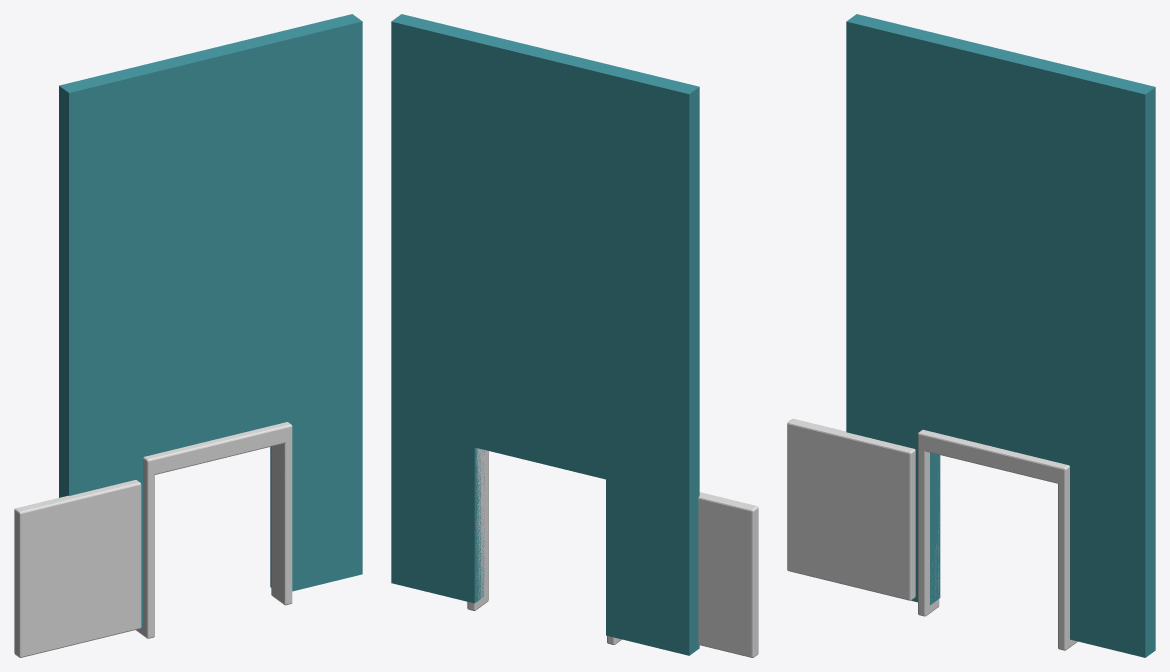
The model's file is env_tower_wall_door_5m_top3d_v002.glb.
The picture shows the model from 3 angles, left to right: view 1: azimuth 30°, elevation 25°; view 2: azimuth 150°, elevation 25°; view 3: azimuth 330°, elevation 25°; orthographic projection.
Parts seen in each view (by area): view 1: MOD_WALL_DOOR_5M_U01_Lintel, MOD_WALL_DOOR_5M_U01_Pier_R, MOD_WALL_DOOR_5M_U01_Pier_L, MOD_WALL_DOOR_5M_U01_DoorLeaf_OPEN, MOD_WALL_DOOR_5M_U01_Frame_R, MOD_WALL_DOOR_5M_U01_Frame_Top, MOD_WALL_DOOR_5M_U01_Frame_L; view 2: MOD_WALL_DOOR_5M_U01_Lintel, MOD_WALL_DOOR_5M_U01_Pier_L, MOD_WALL_DOOR_5M_U01_Pier_R, MOD_WALL_DOOR_5M_U01_DoorLeaf_OPEN, MOD_WALL_DOOR_5M_U01_Frame_R; view 3: MOD_WALL_DOOR_5M_U01_Pier_R, MOD_WALL_DOOR_5M_U01_Lintel, MOD_WALL_DOOR_5M_U01_Pier_L, MOD_WALL_DOOR_5M_U01_DoorLeaf_OPEN, MOD_WALL_DOOR_5M_U01_Frame_Top, MOD_WALL_DOOR_5M_U01_Frame_L, MOD_WALL_DOOR_5M_U01_Frame_R.
Boxes of the visible parts, x1,y1,x2,y2 form: MOD_WALL_DOOR_5M_U01_Lintel: (141, 34, 280, 454); MOD_WALL_DOOR_5M_U01_Pier_R: (270, 14, 362, 591); MOD_WALL_DOOR_5M_U01_Pier_L: (59, 65, 151, 628); MOD_WALL_DOOR_5M_U01_DoorLeaf_OPEN: (14, 480, 141, 657); MOD_WALL_DOOR_5M_U01_Frame_R: (271, 435, 292, 605); MOD_WALL_DOOR_5M_U01_Frame_Top: (143, 422, 292, 475); MOD_WALL_DOOR_5M_U01_Frame_L: (135, 469, 154, 638); MOD_WALL_DOOR_5M_U01_Lintel: (474, 34, 615, 479); MOD_WALL_DOOR_5M_U01_Pier_L: (606, 66, 699, 655); MOD_WALL_DOOR_5M_U01_Pier_R: (391, 14, 484, 603); MOD_WALL_DOOR_5M_U01_DoorLeaf_OPEN: (698, 492, 758, 657); MOD_WALL_DOOR_5M_U01_Frame_R: (467, 448, 488, 610); MOD_WALL_DOOR_5M_U01_Pier_R: (1061, 66, 1155, 657); MOD_WALL_DOOR_5M_U01_Lintel: (930, 34, 1071, 463); MOD_WALL_DOOR_5M_U01_Pier_L: (846, 14, 940, 604); MOD_WALL_DOOR_5M_U01_DoorLeaf_OPEN: (787, 418, 915, 600); MOD_WALL_DOOR_5M_U01_Frame_Top: (918, 429, 1069, 484); MOD_WALL_DOOR_5M_U01_Frame_L: (918, 443, 939, 616); MOD_WALL_DOOR_5M_U01_Frame_R: (1058, 476, 1077, 650).
Size of the model in its own units: 5.92 by 9.14 by 0.44.
